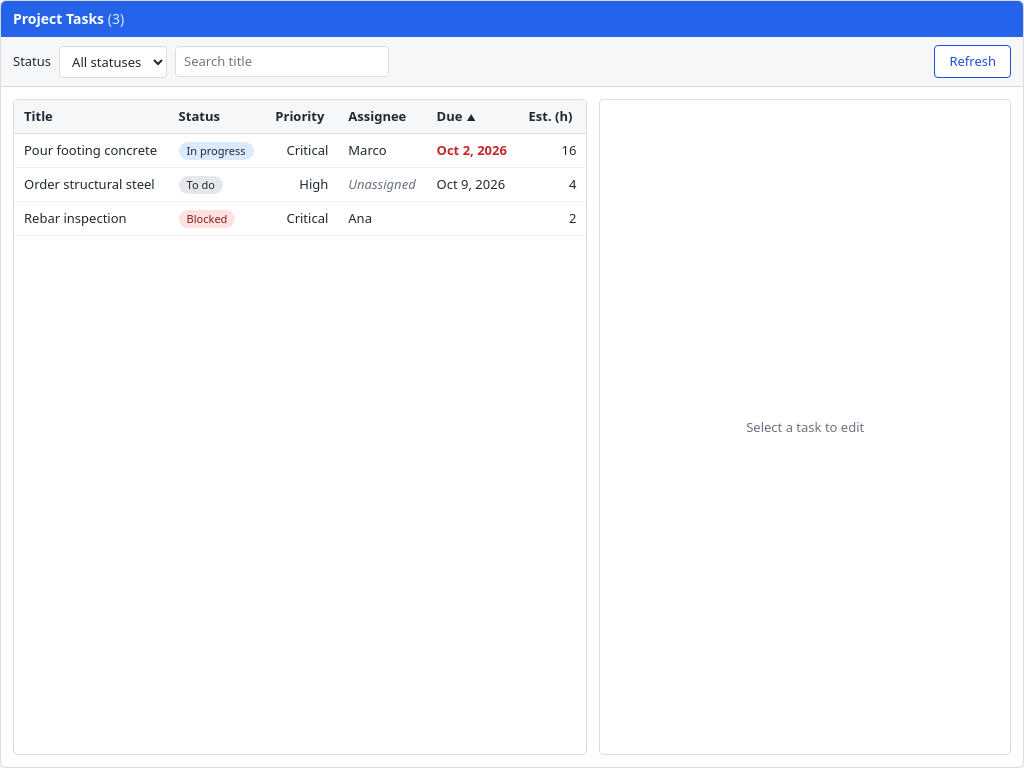
Test case: <TasksModule /> › asks before discarding unsaved edits when switching rows
Click the text "Order structural steel".
click(91, 184)  # box top-left (14, 167), bottom-right (169, 201)
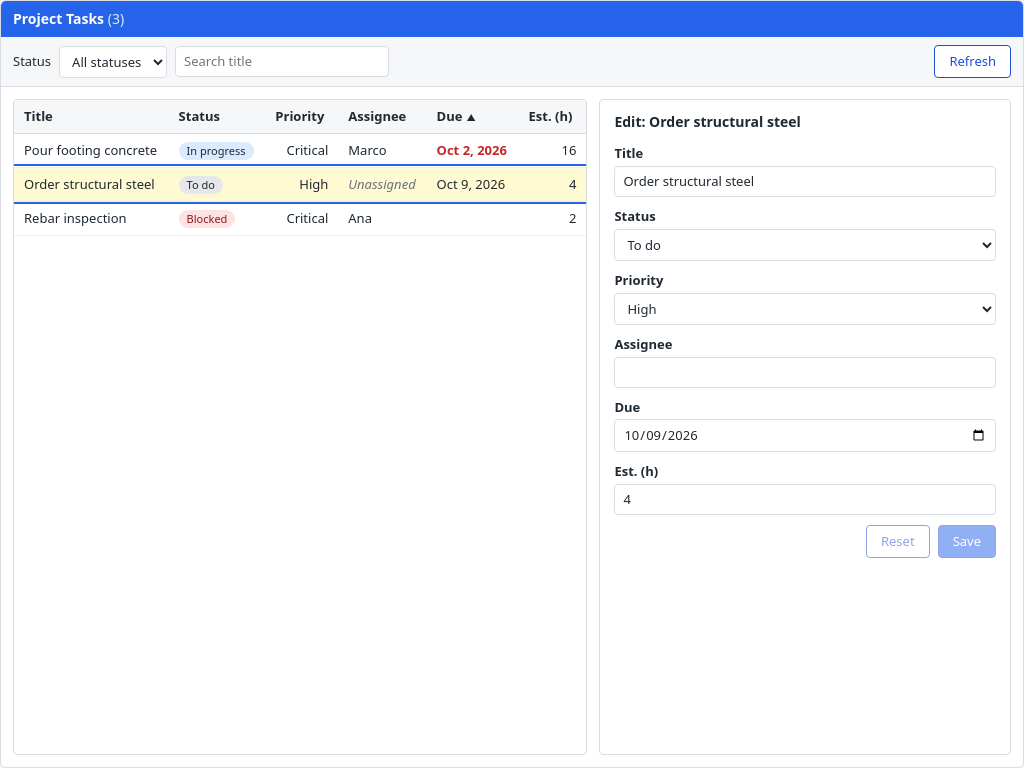
Type " draft" into the field labelled "Title".
click(805, 182); type(" draft")  # box top-left (614, 166), bottom-right (996, 197)
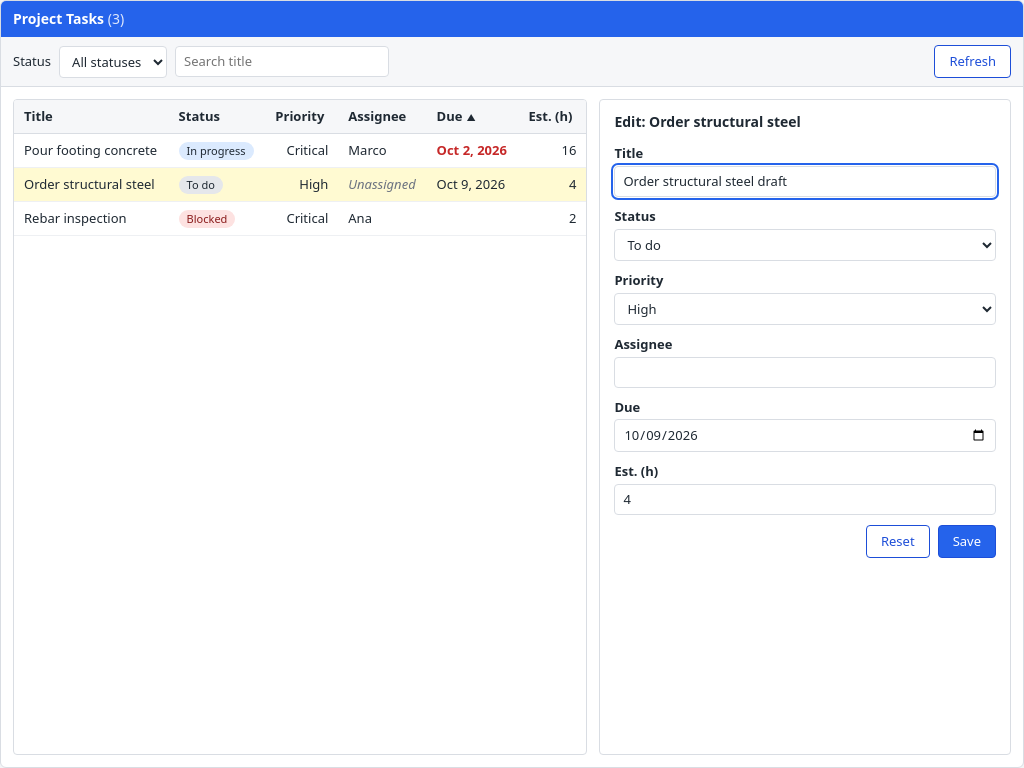
Click the text "Rebar inspection".
click(91, 218)  # box top-left (14, 201), bottom-right (169, 235)
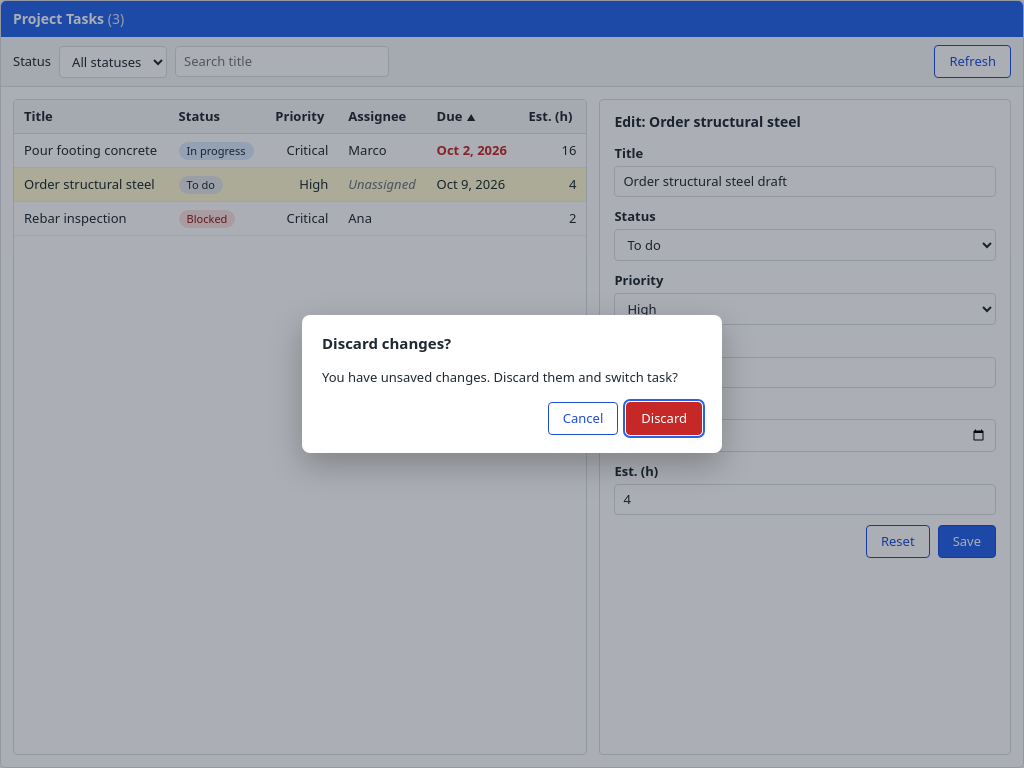
Click the button "Cancel".
click(583, 419)  # box top-left (548, 402), bottom-right (618, 435)
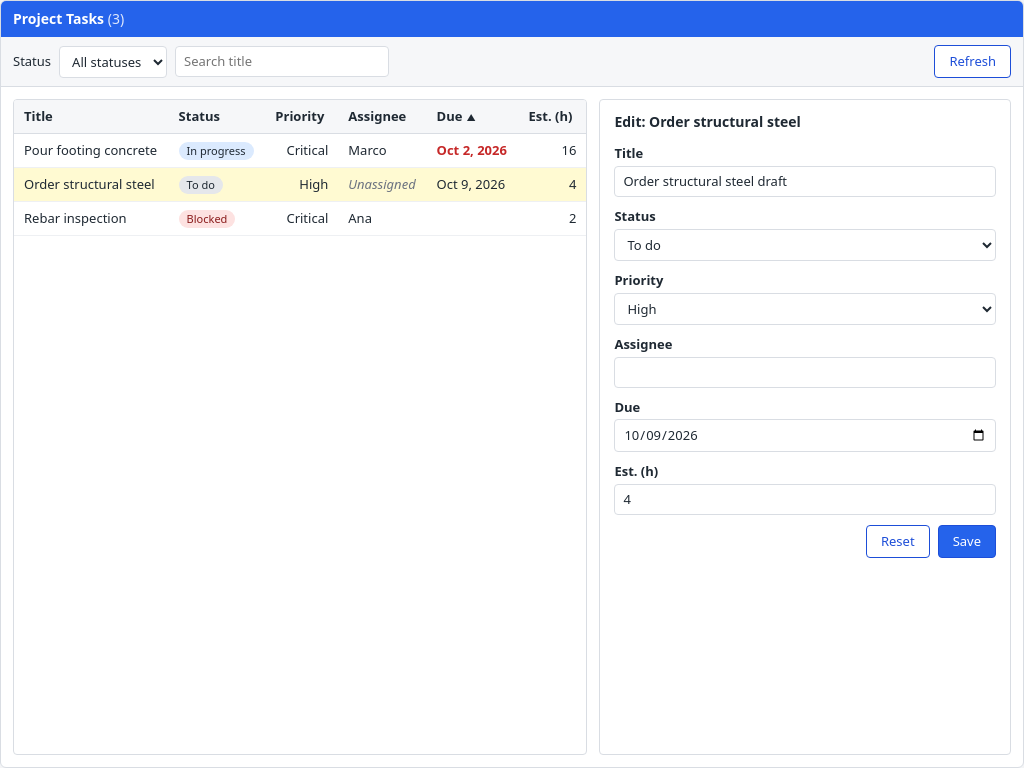
expect the field labelled "Title" holds "Order structural steel draft": met, box top-left (614, 166), bottom-right (996, 197)
Click the text "Rebar inspection".
click(91, 218)  # box top-left (14, 201), bottom-right (169, 235)
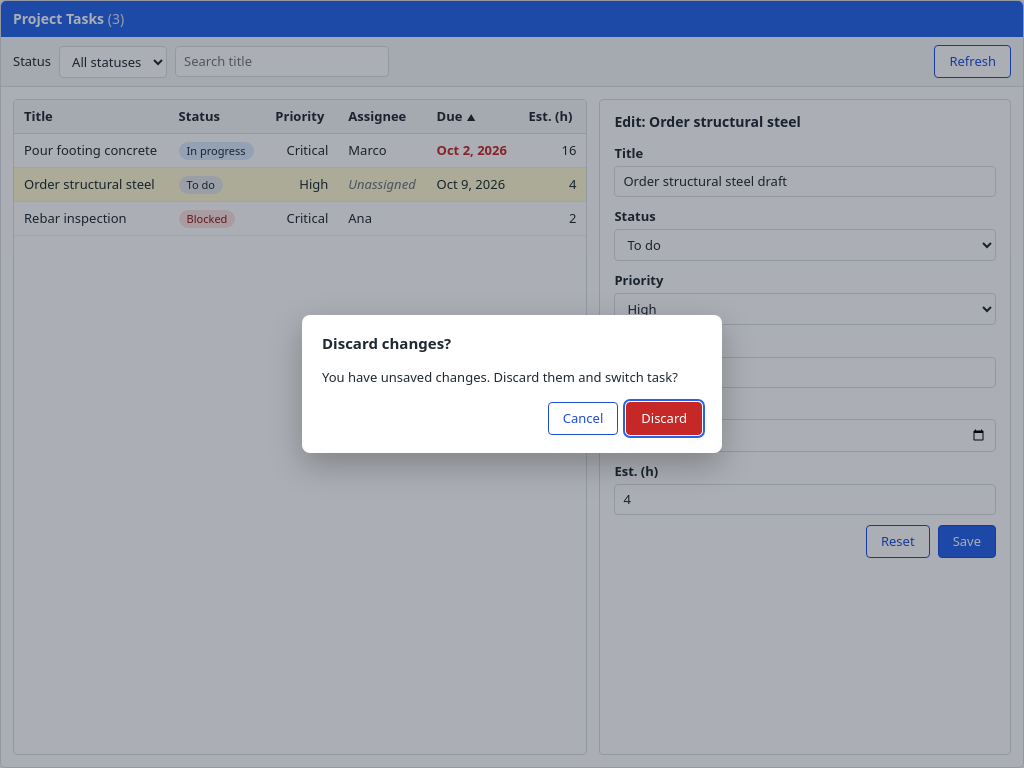
Click the button "Discard".
click(664, 419)  # box top-left (626, 402), bottom-right (702, 435)
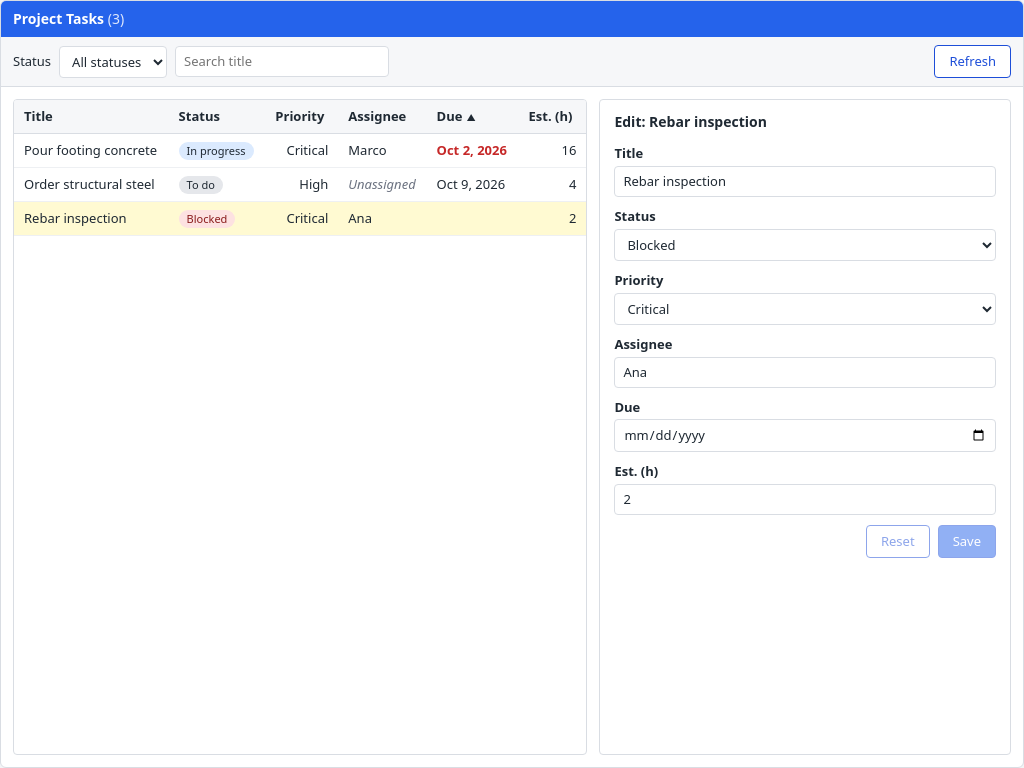
expect the field labelled "Title" holds "Rebar inspection": met, box top-left (614, 166), bottom-right (996, 197)
